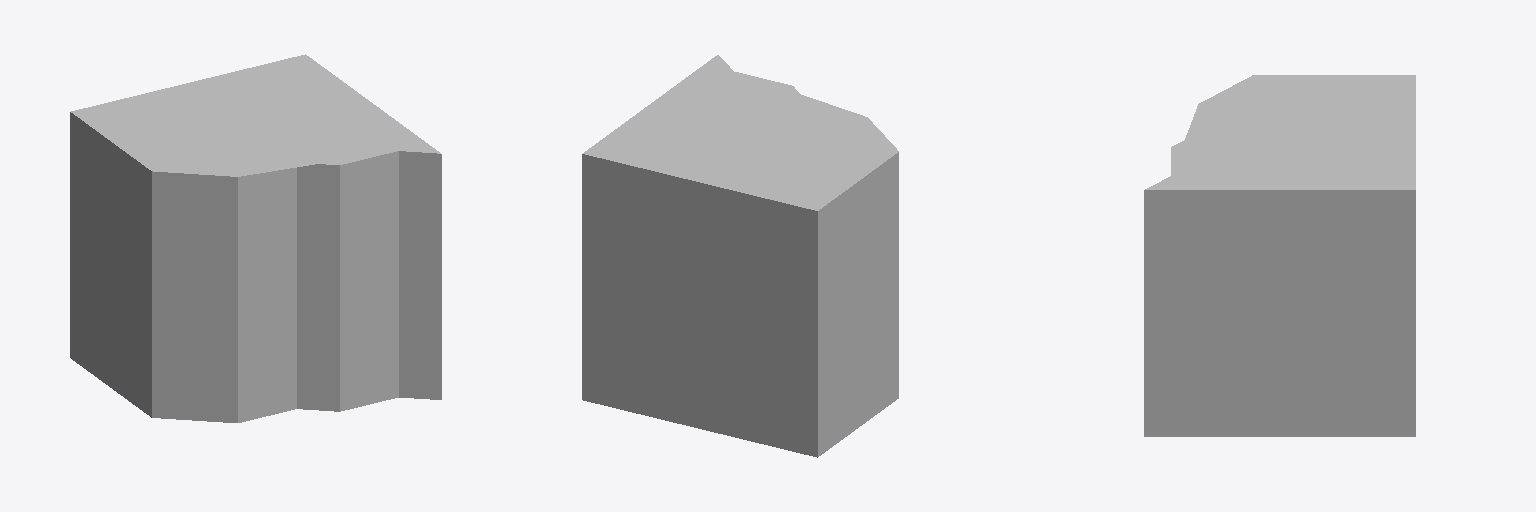
The model's file is door_side.obj.
3 renders of one model, left to right at view 1: azimuth 30°, elevation 25°; view 2: azimuth 150°, elevation 25°; view 3: azimuth 270°, elevation 25°, orthographic.
Visible parts, largest first — view 1: Cube.010_Cube.006; view 2: Cube.010_Cube.006; view 3: Cube.010_Cube.006.
Boxes of the visible parts, x1,y1,x2,y2 form: Cube.010_Cube.006: [70, 54, 441, 422]; Cube.010_Cube.006: [582, 55, 898, 457]; Cube.010_Cube.006: [1144, 75, 1415, 436].
Bounding box in the file's own units: 1 × 1 × 1.